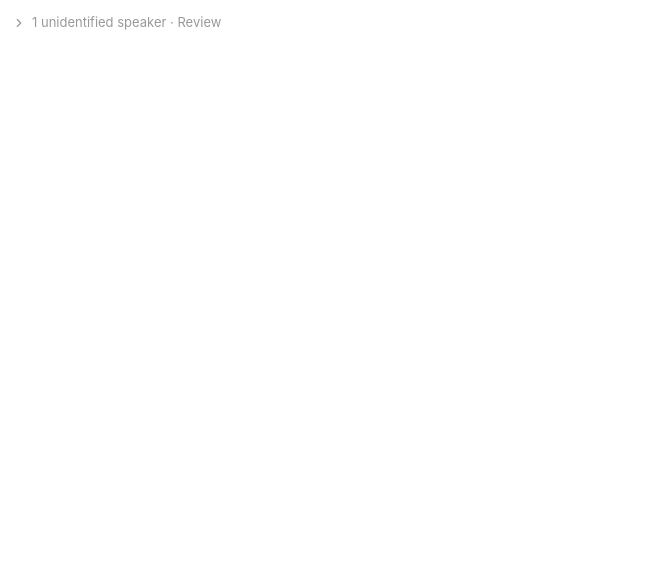
Test case: identity controls › offers calendar attendees as direct choices for anonymous remote speakers
Later steps or results of the test are not shown.
What coordinates should you click on to do the following:
click the button "1 unidentified speaker · Review"
I would click on:
 (117, 23)
Its box is left=12, top=13, right=221, bottom=33.
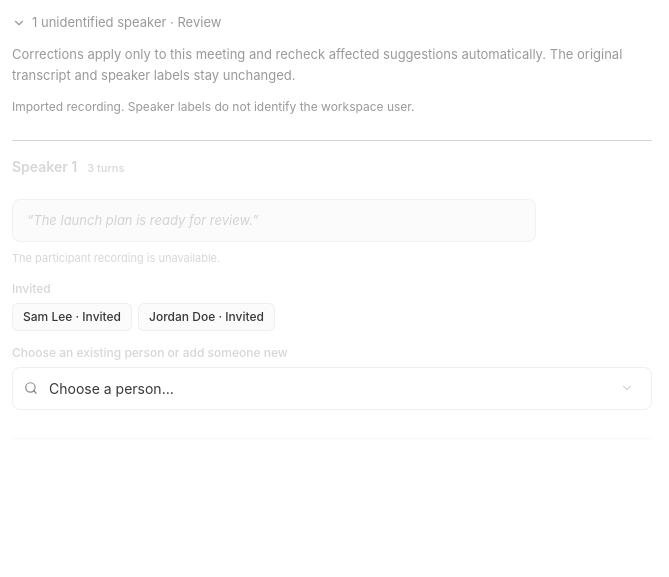
expect the text "Speaker 1" is shown: met, box left=12, top=157, right=77, bottom=177
expect the text "The launch plan is ready for review." is shown: met, box left=33, top=212, right=252, bottom=228
expect the text "Jordan Doe" is shown: met, box left=138, top=303, right=275, bottom=331
What coordinates should you click on to do the following:
click the button "Sam Lee · Invited"
I would click on:
 (72, 317)
Its box is left=12, top=303, right=132, bottom=331.
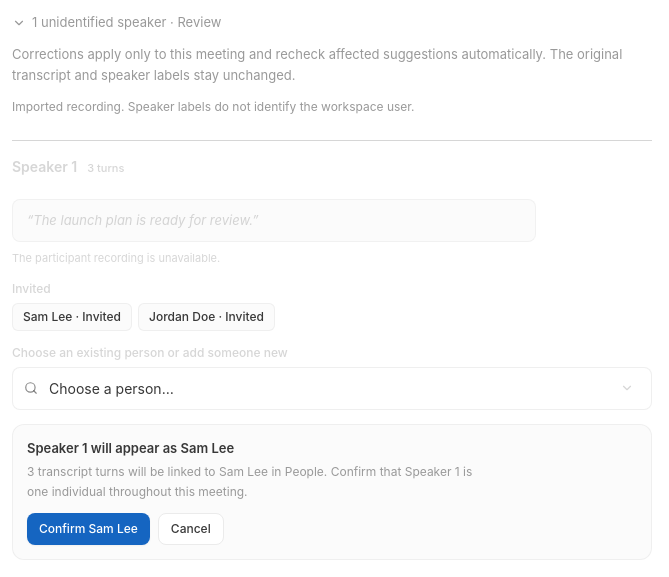
expect the text "Speaker 1 will appear as Sam Lee" is shown: met, box left=27, top=440, right=234, bottom=456
expect the text "3 transcript turns will be linked to Sam Lee in People" is shown: met, box left=27, top=462, right=496, bottom=501
expect the button "Confirm Sam Lee" is shown: met
What coordinates should you click on to do the following:
click the button "Confirm Sam Lee"
I would click on:
 (88, 529)
Its box is left=27, top=513, right=150, bottom=545.
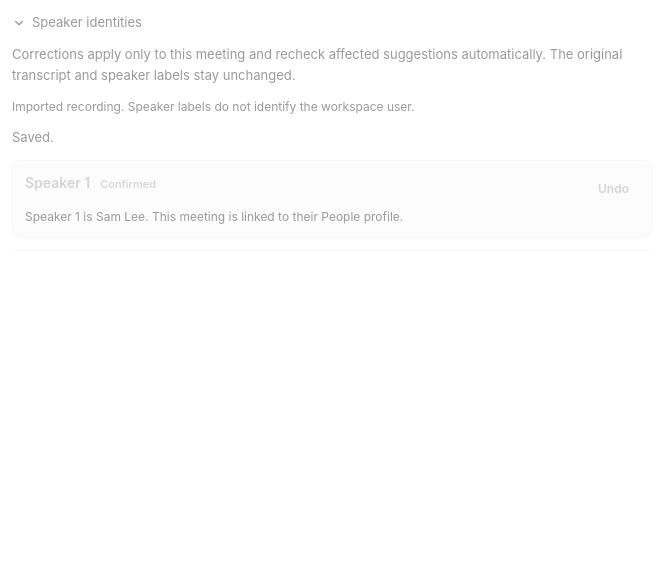
expect the text "Speaker 1 is Sam Lee" is shown: met, box left=25, top=209, right=403, bottom=224
expect the button "Undo" is shown: met, box left=588, top=173, right=639, bottom=205
